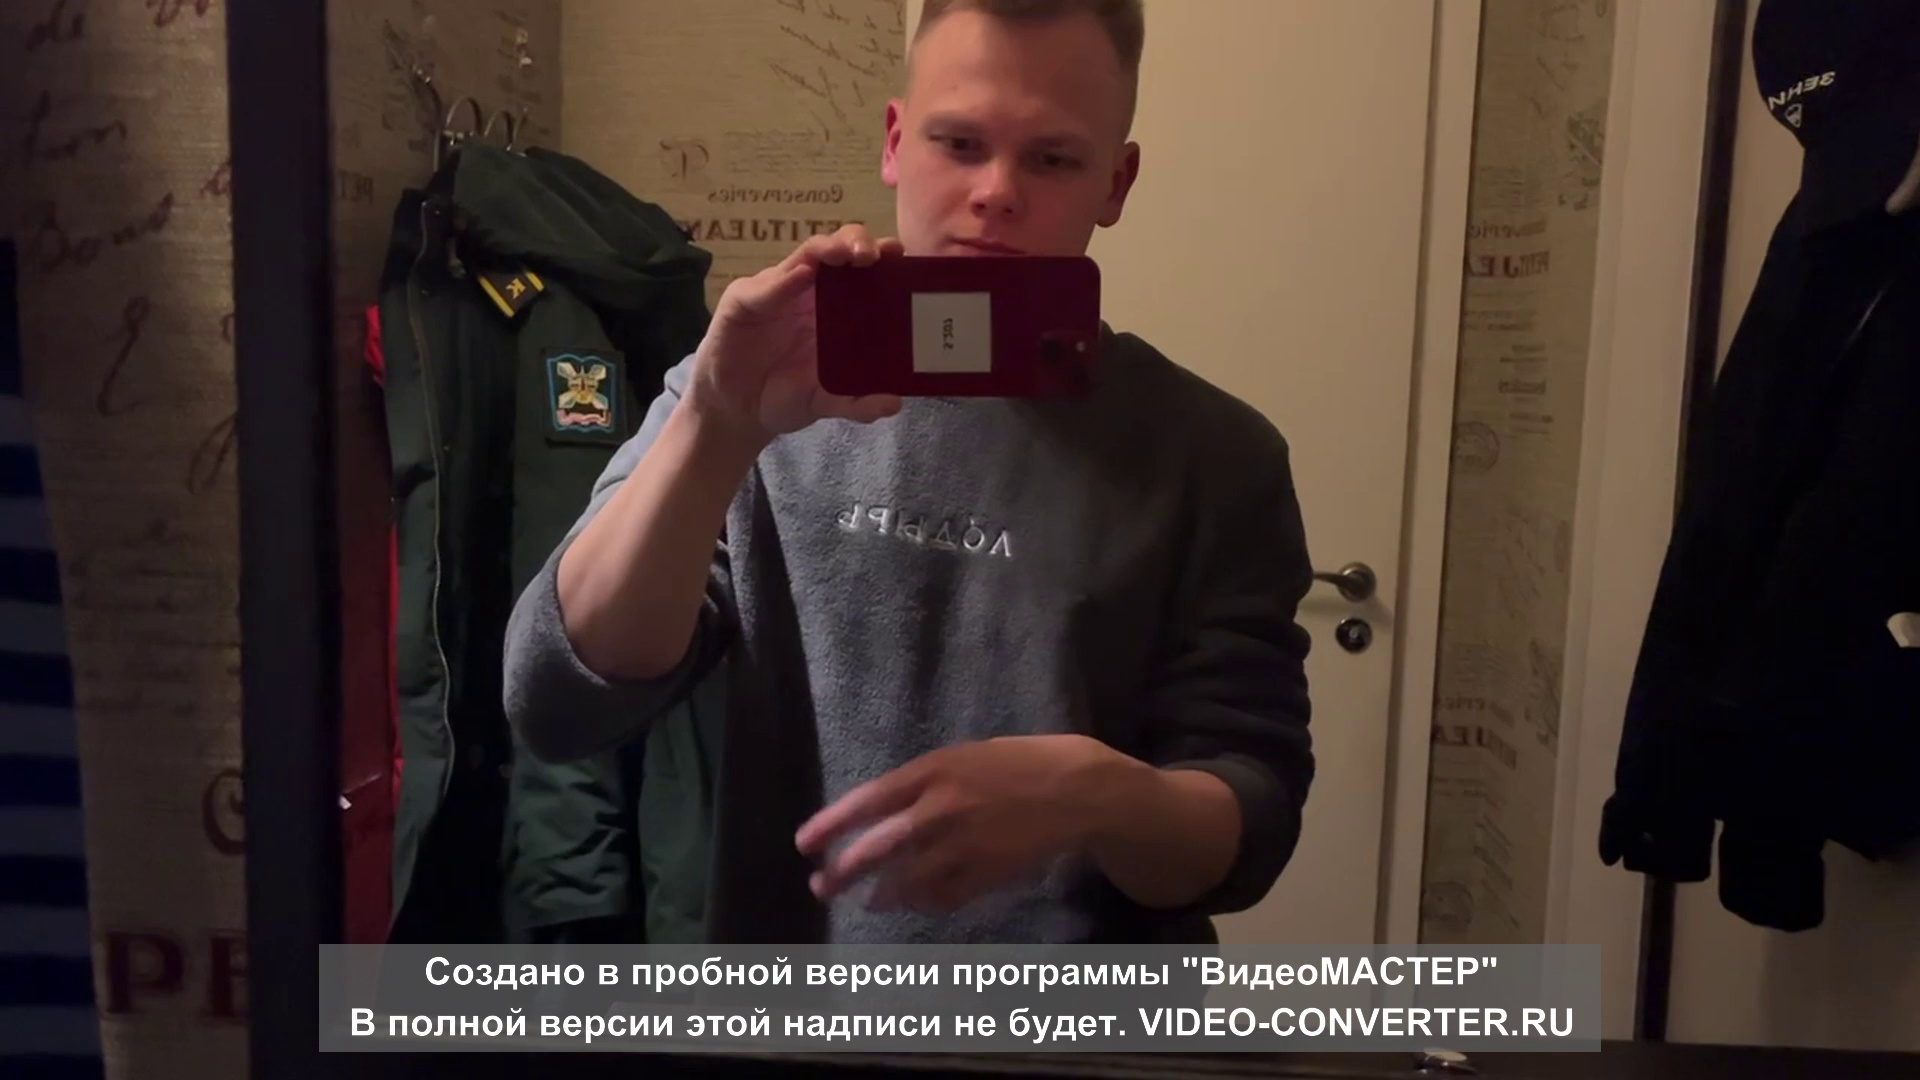Кисть: (795, 733, 1127, 915)
